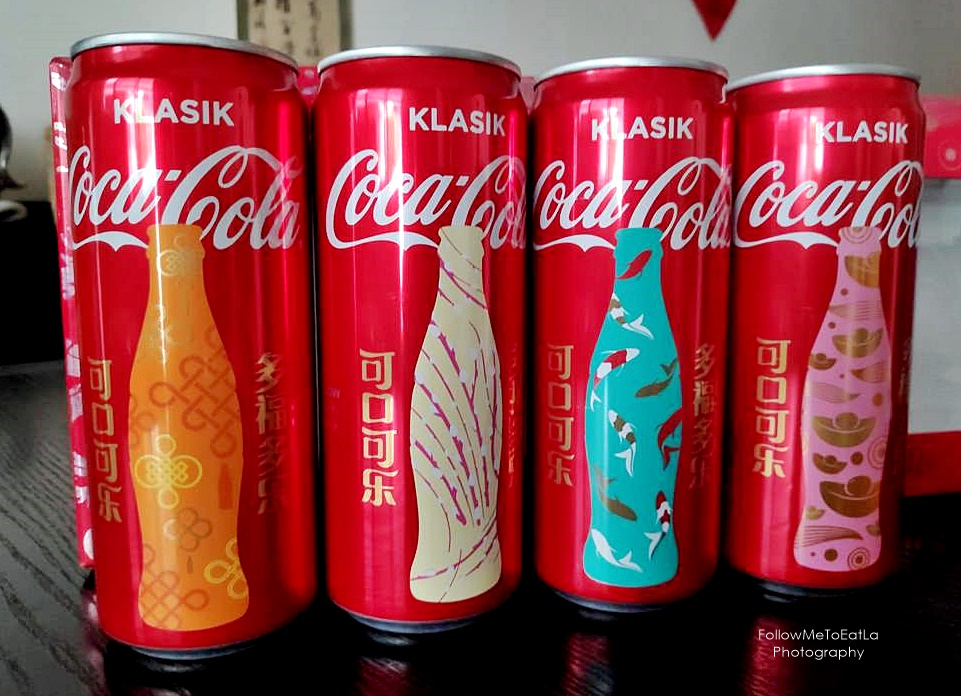cocacola_blue_fish: (532, 56, 722, 607)
cocacola_pink_feather: (731, 67, 915, 586)
cocacola_white_lines: (309, 45, 532, 623)
cocacola_yellow_pattern: (69, 37, 318, 649)
